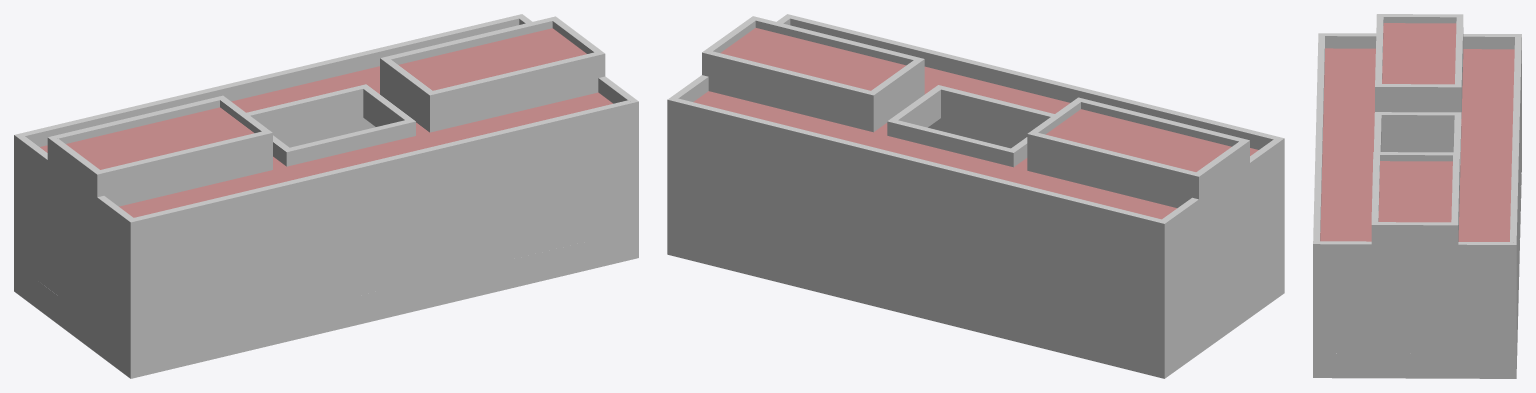
Rendered from LOD_Block_4_27.glb.
The picture shows the model from 3 angles, left to right: view 1: azimuth 30°, elevation 25°; view 2: azimuth 150°, elevation 25°; view 3: azimuth 270°, elevation 25°; orthographic projection. The views are drawn at different scales.
Visible parts, largest first — view 1: mesh_CityEngineMaterial_445; view 2: mesh_CityEngineMaterial_445; view 3: mesh_CityEngineMaterial_445.
Boxes of the visible parts, x1,y1,x2,y2 form: mesh_CityEngineMaterial_445: [14, 14, 638, 378]; mesh_CityEngineMaterial_445: [667, 14, 1284, 378]; mesh_CityEngineMaterial_445: [1313, 14, 1521, 378].
Size of the model in its own units: 36.83 by 12.44 by 15.35.
